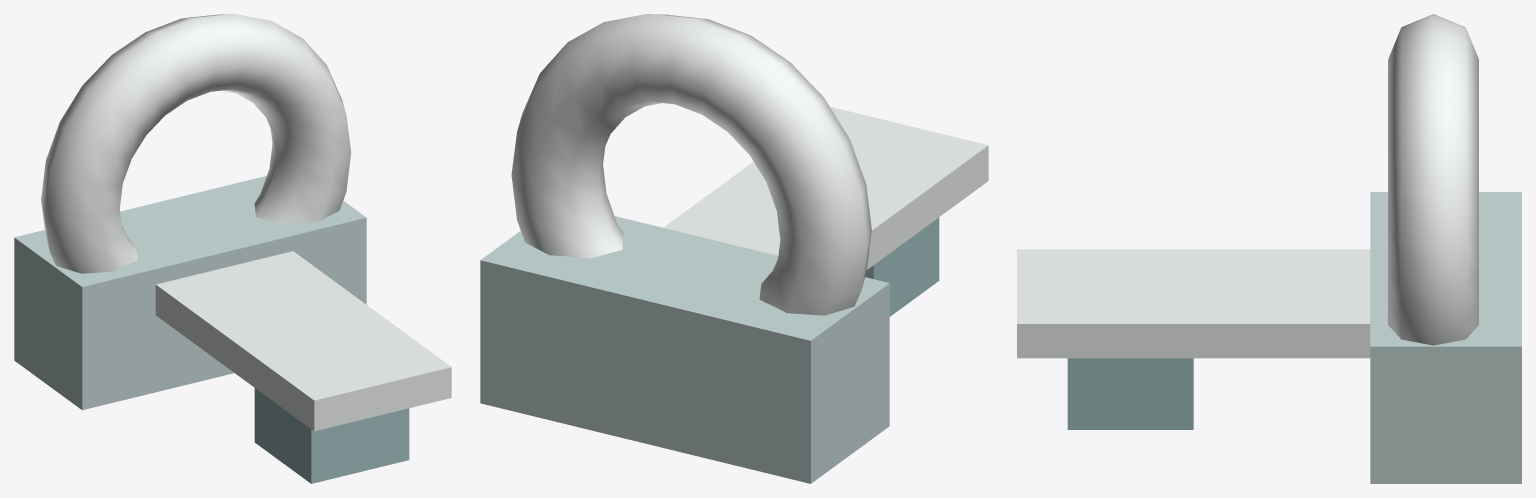
Rendered from ct-scanner.glb.
The picture shows the model from 3 angles, left to right: view 1: azimuth 30°, elevation 25°; view 2: azimuth 150°, elevation 25°; view 3: azimuth 270°, elevation 25°; orthographic projection. The views are drawn at different scales.
Parts seen in each view (by area): view 1: ct-scanner; view 2: ct-scanner; view 3: ct-scanner.
Boxes of the visible parts, <box> form: ct-scanner: <box>14,14,451,483</box>; ct-scanner: <box>480,14,988,483</box>; ct-scanner: <box>1017,14,1521,483</box>.
Bounding box in the file's own units: 1.54 × 1.64 × 2.
